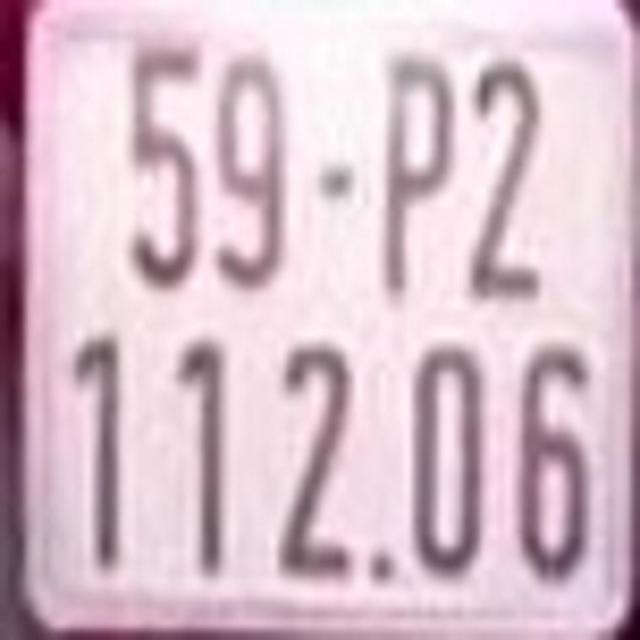0: (407, 332, 486, 572)
1: (167, 315, 235, 575), (66, 323, 134, 575)
2: (466, 48, 548, 303), (276, 334, 355, 580)
5: (126, 40, 206, 289)
6: (515, 331, 593, 584)
9: (210, 40, 289, 286)
P: (373, 40, 459, 296)
